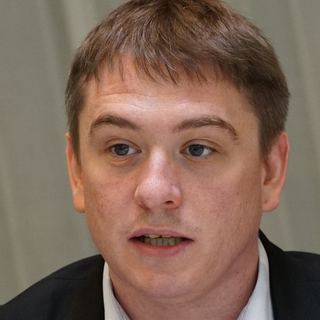eye: (175, 136, 223, 164), (99, 136, 144, 164)
